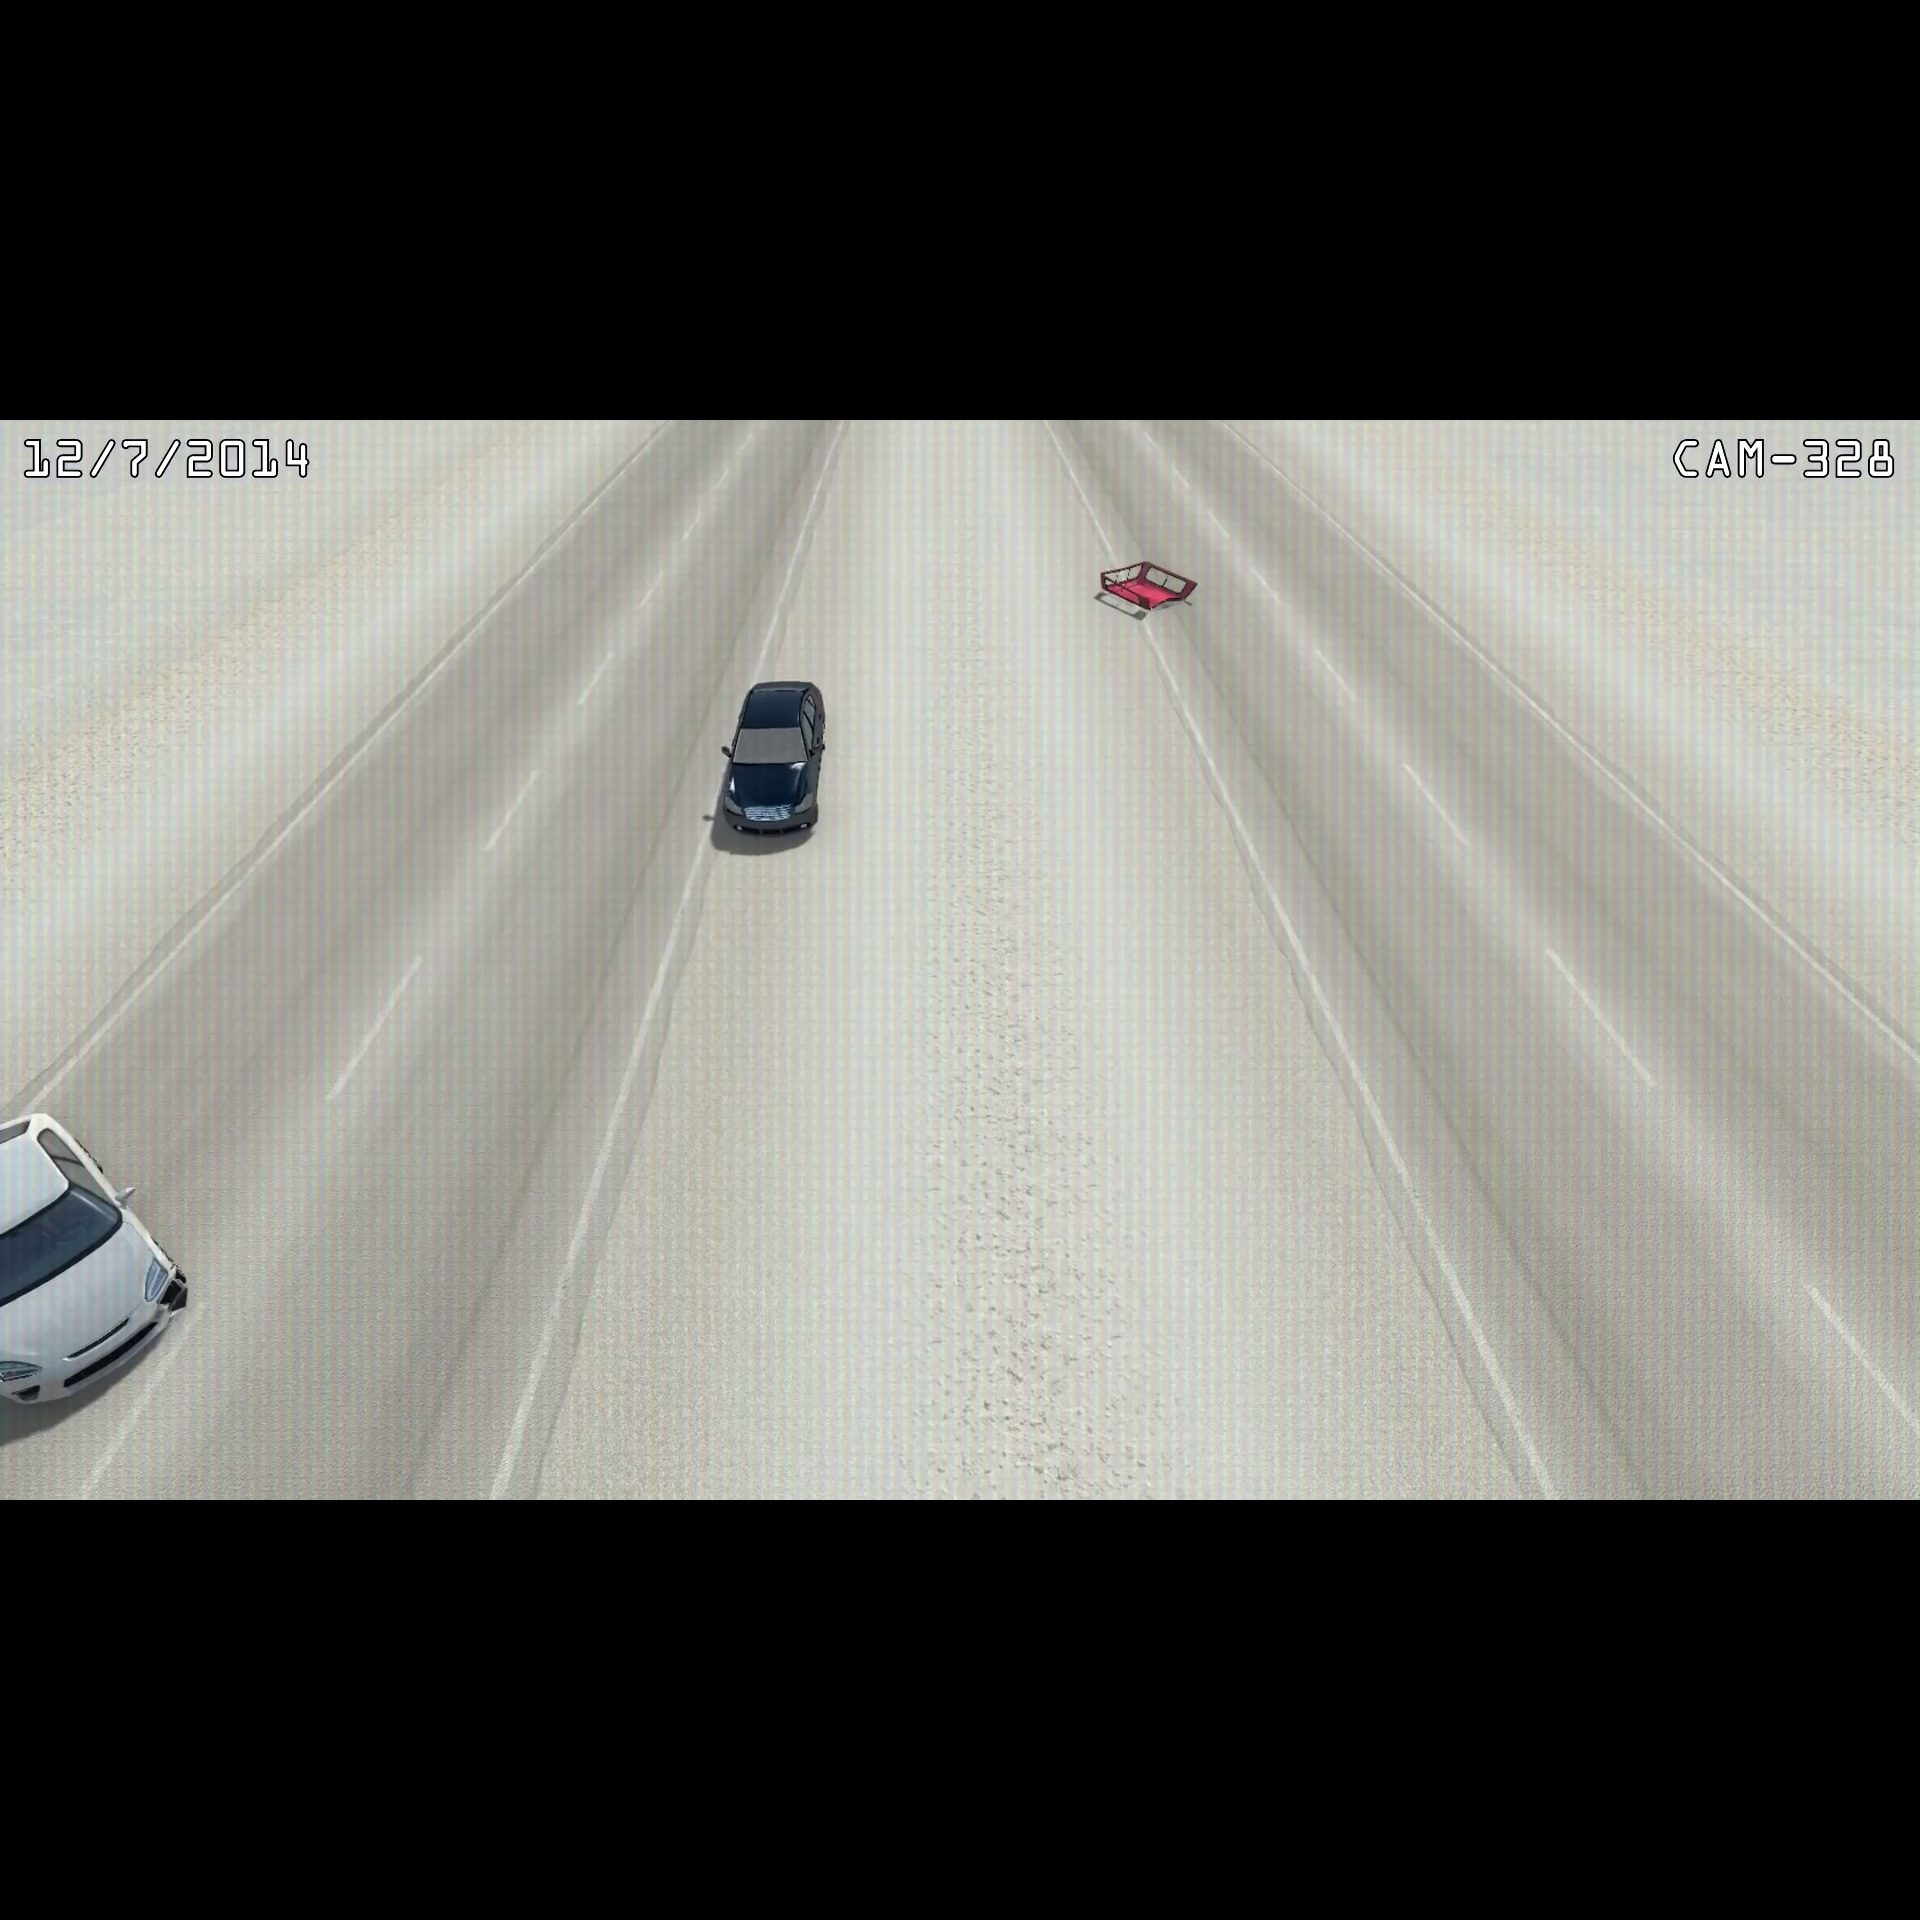vehicle: (2, 1101, 192, 1424), (707, 666, 839, 851)
